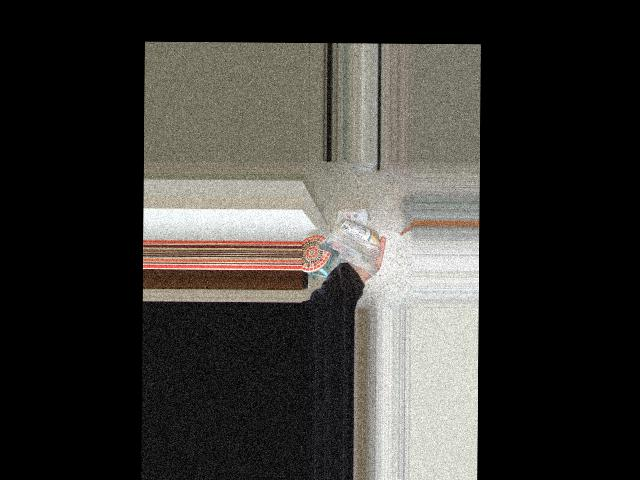cheese: (340, 202, 368, 266)
